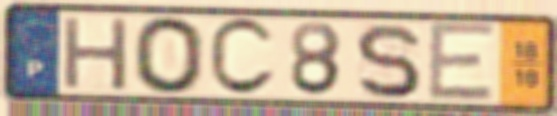8: (287, 19, 344, 99)
C: (205, 15, 279, 99)
E: (426, 19, 499, 104)
H: (61, 14, 133, 93)
O: (130, 14, 208, 97)
S: (352, 21, 425, 100)
